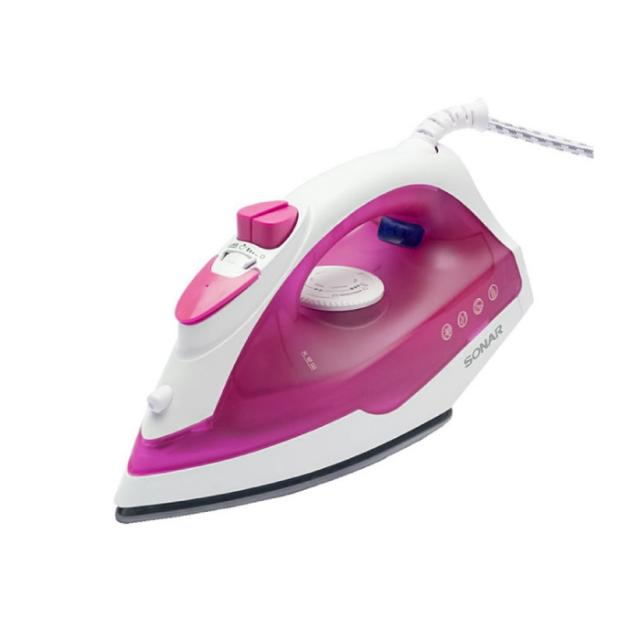Clothes-Iron: (103, 130, 543, 530)
